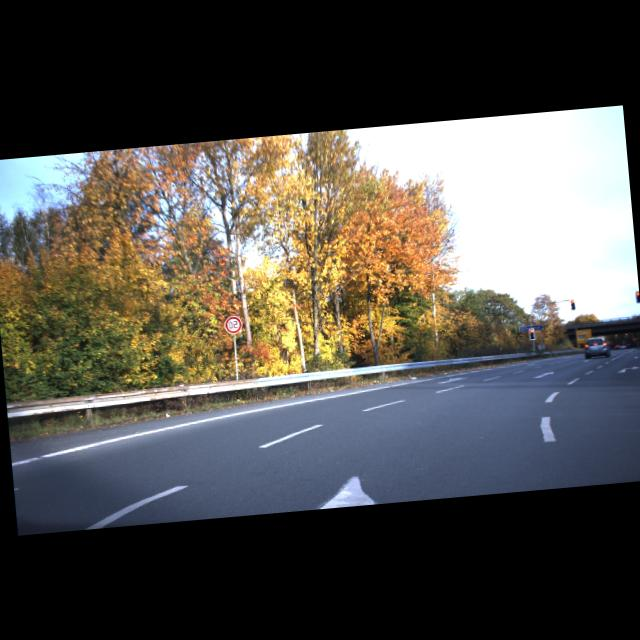prohibitory: (224, 314, 242, 332)
